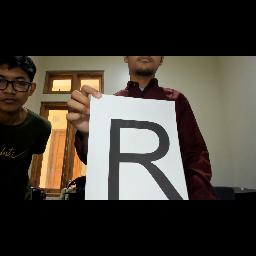r: (103, 110, 191, 200)
